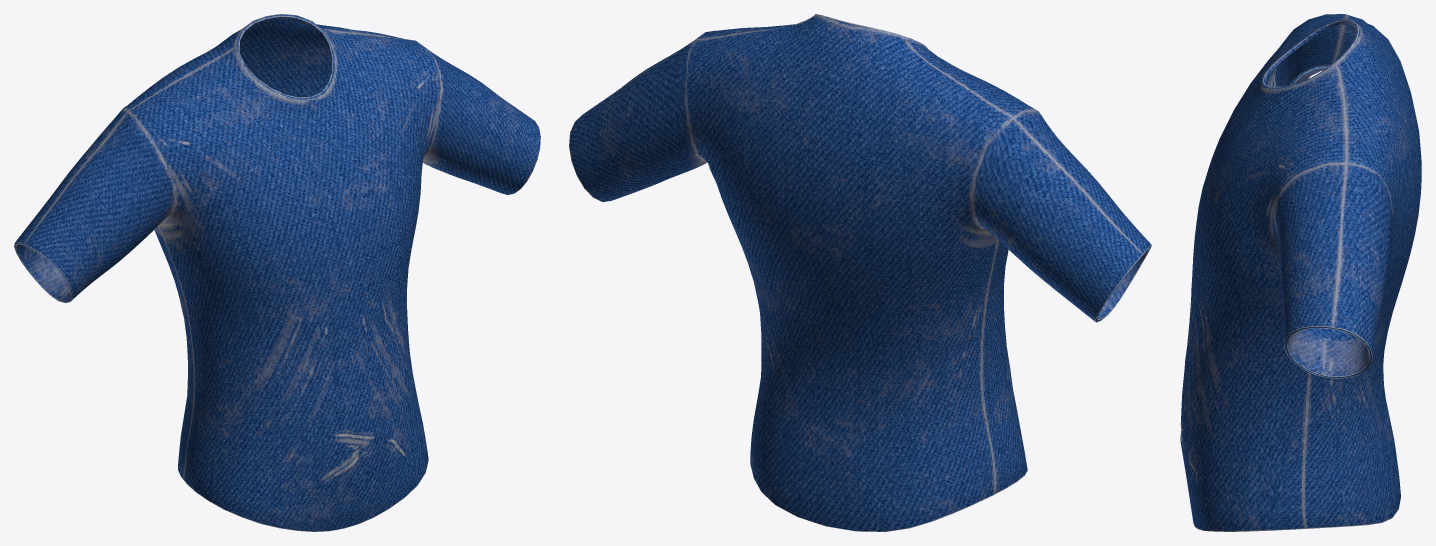
The model's file is shirt7.glb.
The picture shows the model from 3 angles, left to right: view 1: azimuth 30°, elevation 25°; view 2: azimuth 150°, elevation 25°; view 3: azimuth 270°, elevation 25°; orthographic projection. The views are drawn at different scales.
Visible parts, largest first — view 1: g; view 2: g; view 3: g.
Boxes of the visible parts, bbox=[...] form: g: bbox=[14, 14, 540, 531]; g: bbox=[569, 14, 1151, 531]; g: bbox=[1180, 14, 1421, 531].
Size of the model in its own units: 0.8943 by 0.763 by 0.3471.
Materials: 1 (1 with a texture image).
